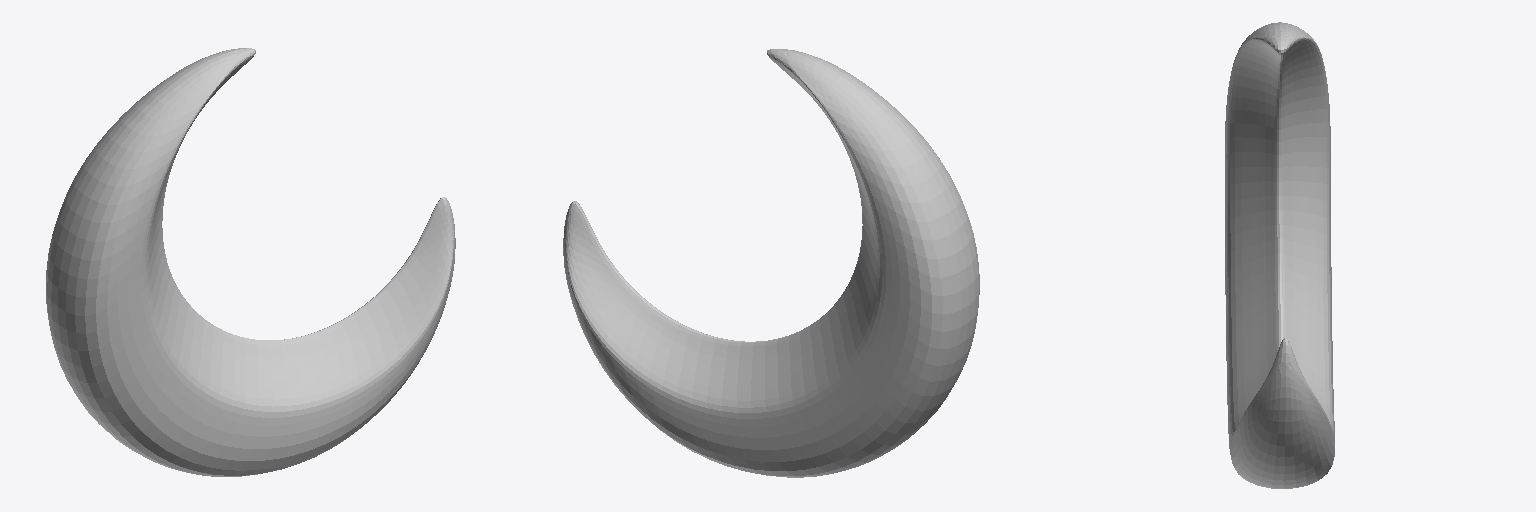
The model's file is muslim.obj.
3 views of the same model, side by side, from view 1: azimuth 30°, elevation 25°; view 2: azimuth 150°, elevation 25°; view 3: azimuth 270°, elevation 25° (orthographic).
Visible parts, largest first — view 1: Circle.010; view 2: Circle.010; view 3: Circle.010.
Boxes of the visible parts, x1=… form: Circle.010: x1=46, y1=48, x2=455, y2=476; Circle.010: x1=563, y1=49, x2=979, y2=477; Circle.010: x1=1225, y1=22, x2=1334, y2=488.
Size of the model in its own units: 1.41 by 1.42 by 0.3392.